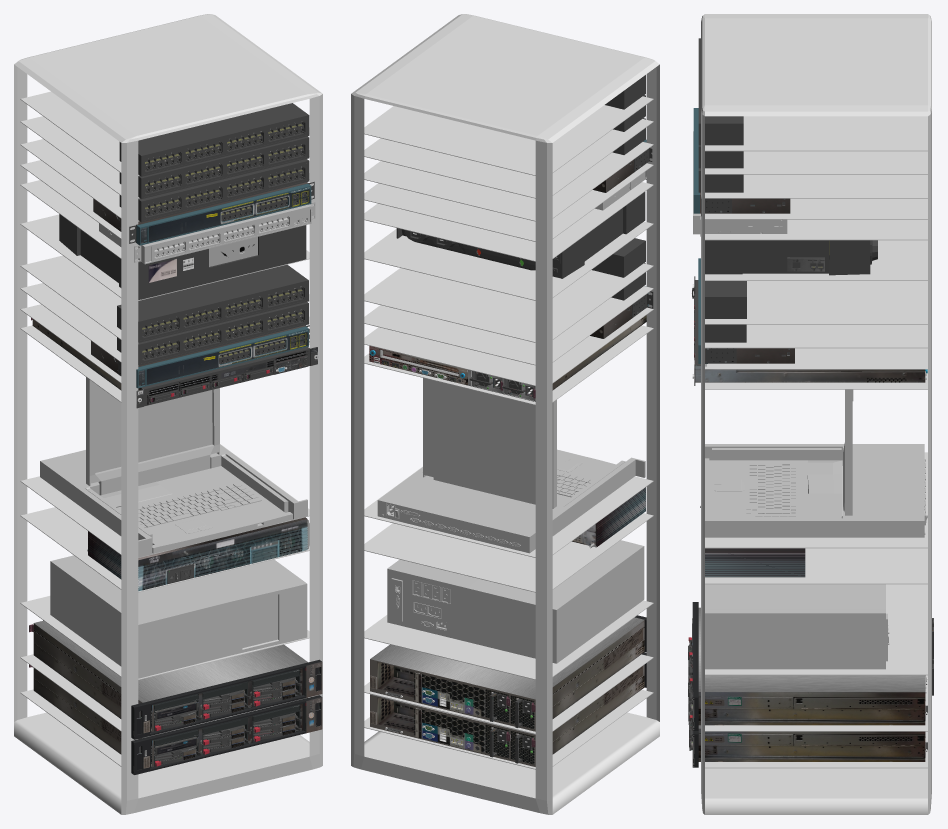
The model's file is ServerCabinet.fbx.
The picture shows the model from 3 angles, left to right: view 1: azimuth 30°, elevation 25°; view 2: azimuth 150°, elevation 25°; view 3: azimuth 270°, elevation 25°; orthographic projection. The views are drawn at different scales.
Visible parts, largest first — view 1: Cube.023, Cube.010_Cube.011, Cube.024, Cube.006_Cube.002, Cube.003_Cube, Cube.007_Cube.003, Text.003_Mesh, Text.004_Mesh.003, router_1, Text_Mesh.001, Cube.002_Cube.006, Cube.005_Cube.007 (+8 smaller); view 2: Cube.010_Cube.011, Cube.023, Cube.024, Cube.006_Cube.002, Cube.003_Cube, Cube.007_Cube.003, Cube.015_Cube.016, Text.003_Mesh, Cube_Cube.000, Cube.014_Cube.015, Cube.009_Cube.010, router_1 (+4 smaller); view 3: Cube.010_Cube.011, Cube.023, Cube.024, Cube.006_Cube.002, Cube.003_Cube, Cube.007_Cube.003, Text.003_Mesh, Cube_Cube.000, Cube.015_Cube.016, router_1, Cube.002_Cube.006, Cube.014_Cube.015 (+8 smaller).
Boxes of the visible parts, x1,y1,x2,y2 form: Cube.023: [14, 14, 322, 814]; Cube.010_Cube.011: [20, 91, 309, 731]; Cube.024: [40, 377, 307, 557]; Cube.006_Cube.002: [50, 555, 307, 678]; Cube.003_Cube: [29, 620, 322, 739]; Cube.007_Cube.003: [29, 664, 322, 774]; Text.003_Mesh: [59, 214, 306, 299]; Text.004_Mesh.003: [117, 264, 308, 342]; router_1: [87, 517, 309, 591]; Text_Mesh.001: [119, 103, 309, 176]; Cube.002_Cube.006: [93, 181, 314, 245]; Cube.005_Cube.007: [91, 325, 309, 388]; Cube.010_Cube.011: [364, 96, 653, 734]; Cube.023: [351, 14, 659, 814]; Cube.024: [377, 378, 645, 553]; Cube.006_Cube.002: [387, 540, 644, 663]; Cube.003_Cube: [370, 615, 646, 731]; Cube.007_Cube.003: [370, 652, 646, 766]; Cube.015_Cube.016: [364, 307, 653, 386]; Text.003_Mesh: [396, 192, 645, 278]; Cube_Cube.000: [369, 315, 646, 401]; Cube.014_Cube.015: [364, 325, 653, 405]; Cube.009_Cube.010: [364, 689, 653, 769]; router_1: [572, 487, 645, 548]; Cube.010_Cube.011: [705, 116, 927, 731]; Cube.023: [701, 14, 931, 814]; Cube.024: [705, 389, 927, 537]; Cube.006_Cube.002: [705, 584, 889, 669]; Cube.003_Cube: [688, 602, 933, 730]; Cube.007_Cube.003: [688, 659, 933, 767]; Text.003_Mesh: [705, 240, 877, 275]; Cube_Cube.000: [692, 276, 927, 385]; Cube.015_Cube.016: [705, 348, 927, 369]; router_1: [700, 506, 805, 577]; Cube.002_Cube.006: [693, 108, 790, 216]; Cube.014_Cube.015: [705, 370, 927, 389].
Bounding box in the file's own units: 284 × 88.51 × 89.98.
